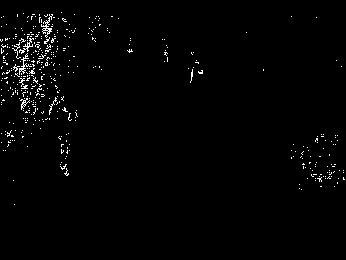person: (48, 91, 78, 176)
